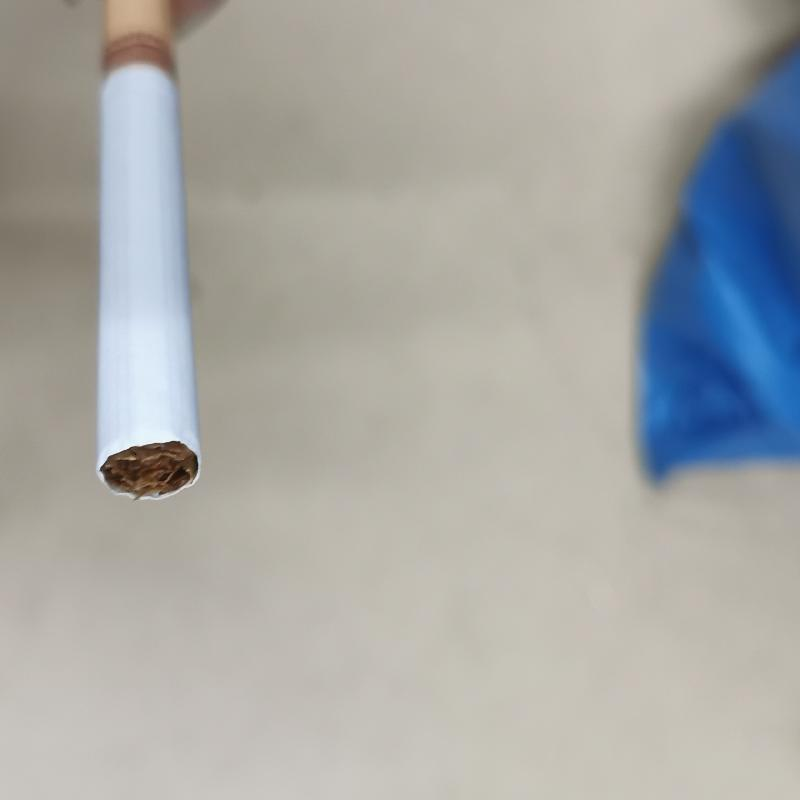cigarette: (90, 3, 204, 501)
